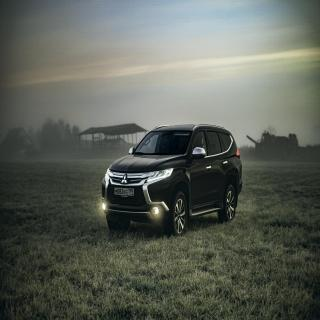Normal_vehicle: (101, 123, 244, 237)
